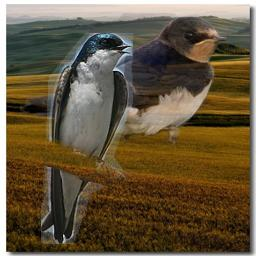Swallow: (20, 13, 227, 145), (41, 33, 133, 244)
